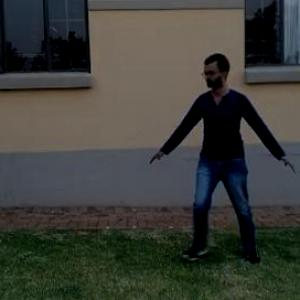land: (159, 58, 293, 236)
